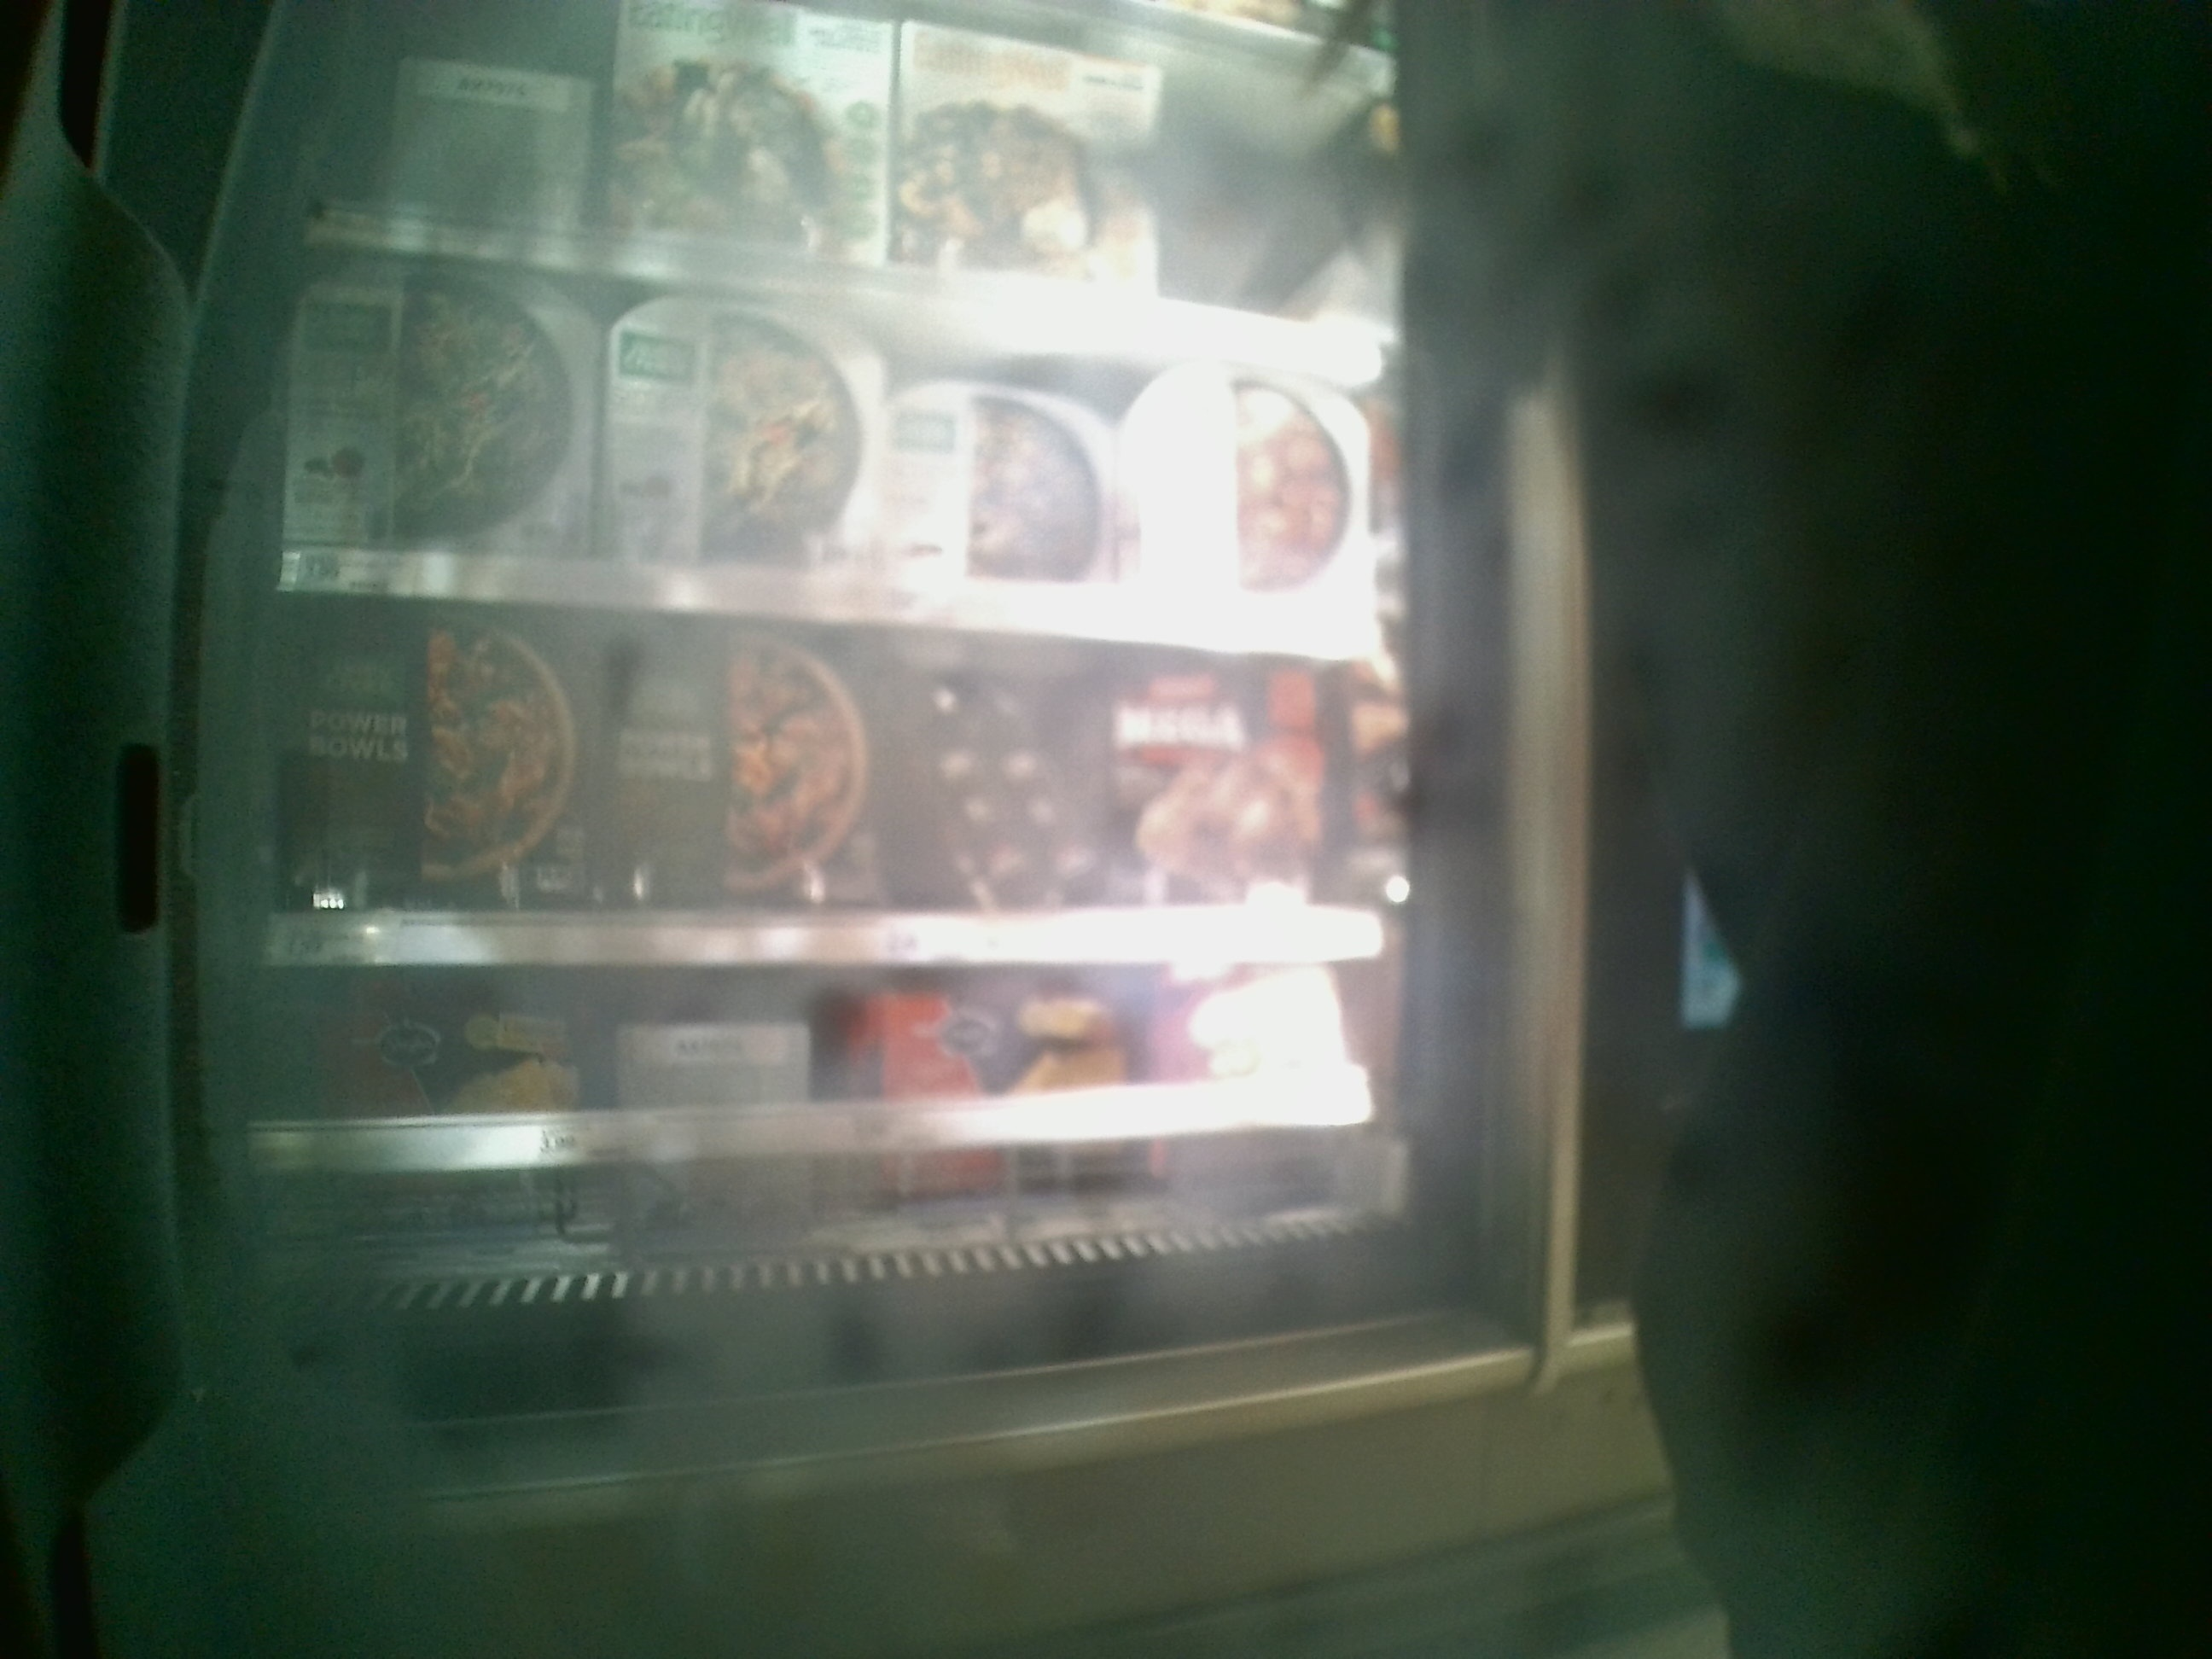shelf: (289, 240, 1393, 664), (268, 584, 1393, 958)
